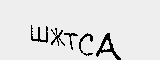А: (95, 31, 123, 60)
Ж: (49, 26, 64, 48)
С: (76, 32, 96, 58)
Т: (60, 29, 78, 51)
Ш: (28, 23, 49, 43)
